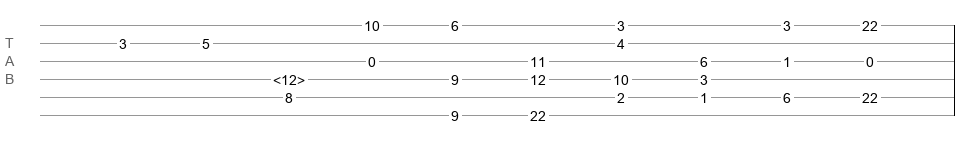0: (368, 54, 376, 64), (866, 54, 874, 64)
1: (700, 90, 708, 100), (783, 54, 791, 64)
10: (364, 18, 380, 28), (613, 72, 629, 82)
11: (530, 54, 546, 64)
12: (530, 72, 546, 82)
2: (617, 90, 625, 100)
22: (530, 108, 546, 118), (862, 90, 878, 100), (862, 18, 878, 28)
3: (119, 36, 127, 46), (617, 18, 625, 28), (700, 72, 708, 82), (783, 18, 791, 28)
4: (617, 36, 625, 46)
5: (202, 36, 210, 46)
6: (451, 18, 459, 28), (700, 54, 708, 64), (783, 90, 791, 100)
8: (285, 90, 293, 100)
9: (451, 72, 459, 82), (451, 108, 459, 118)
harmonic: (273, 72, 305, 82)
